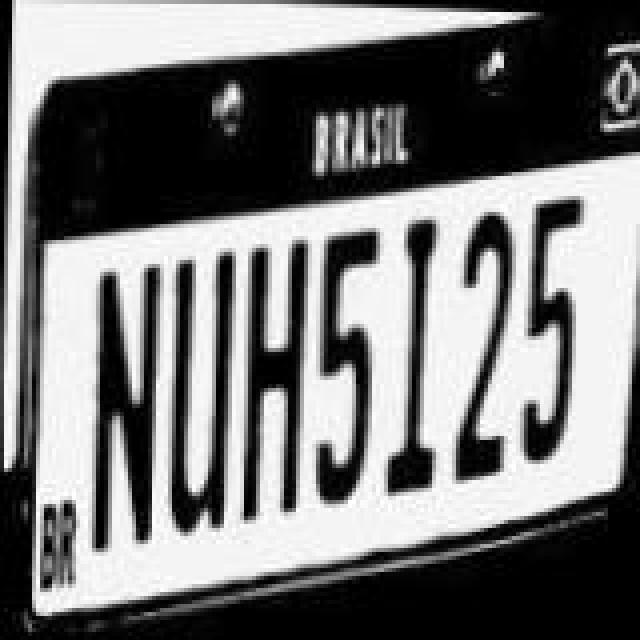2: (442, 180, 522, 468)
5: (308, 198, 384, 486), (518, 172, 590, 444)
H: (230, 214, 314, 506)
I: (376, 188, 452, 480)
N: (82, 242, 166, 554)
U: (154, 226, 238, 530)
